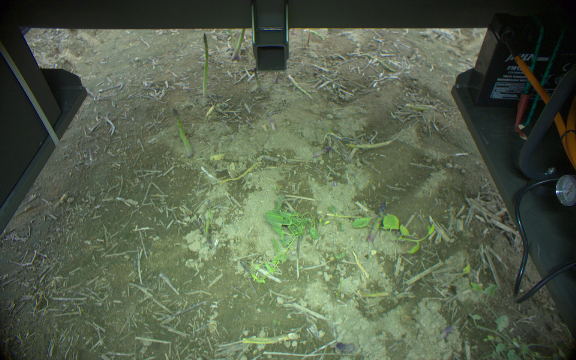aspa: (171, 107, 194, 157), (365, 200, 386, 243), (200, 32, 210, 100), (230, 28, 248, 62), (225, 29, 241, 64)
